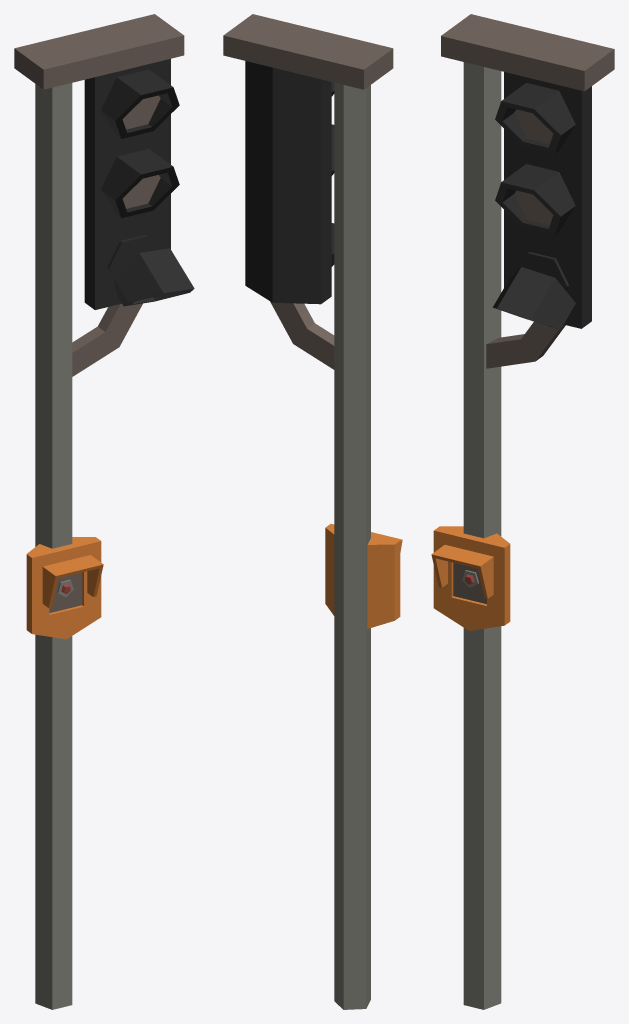
The model's file is LP_PostApoc_TrafficLight.fbx.
3 renders of one model, left to right at view 1: azimuth 30°, elevation 25°; view 2: azimuth 150°, elevation 25°; view 3: azimuth 330°, elevation 25°, orthographic. The views are drawn at different scales.
Parts seen in each view (by area): view 1: TrafficLight; view 2: TrafficLight; view 3: TrafficLight.
Boxes of the visible parts, x1=… form: TrafficLight: x1=14, y1=14, x2=194, y2=1009; TrafficLight: x1=223, y1=14, x2=402, y2=1009; TrafficLight: x1=431, y1=14, x2=614, y2=1009.
Size of the model in its own units: 53.92 by 326 by 38.7.
